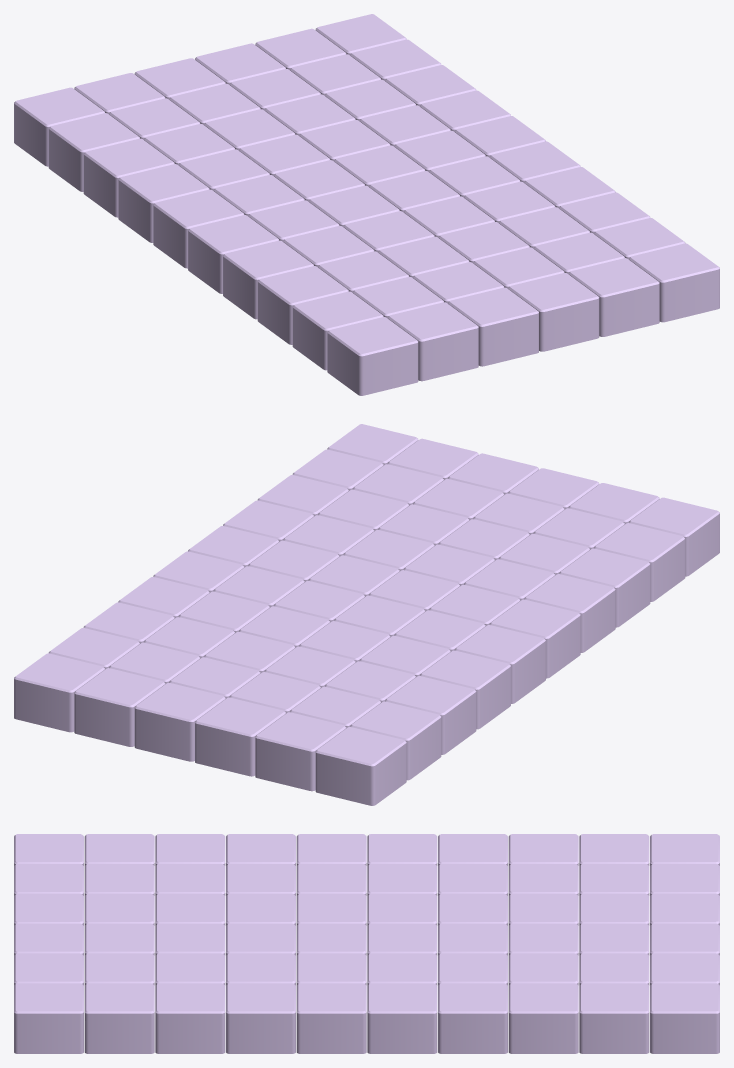
The picture shows the model from 3 angles, top to bottom: view 1: azimuth 30°, elevation 25°; view 2: azimuth 150°, elevation 25°; view 3: azimuth 270°, elevation 25°; orthographic projection.
Visible parts, largest first — view 1: grid; view 2: grid; view 3: grid.
Boxes of the visible parts, box(x1,y1,x2,y2) form: grid: box(14, 14, 719, 395); grid: box(14, 424, 719, 805); grid: box(14, 834, 719, 1053).
Bounding box in the file's own units: 5.99 × 0.6526 × 9.99.
